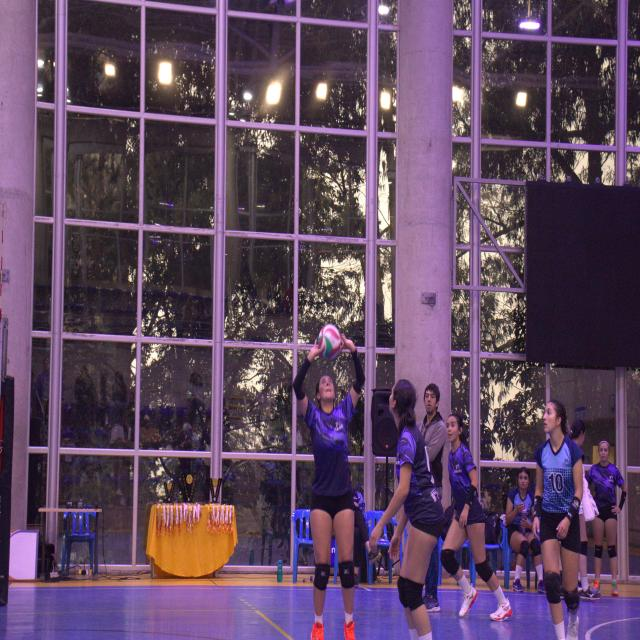volleyball: (317, 324, 341, 362)
